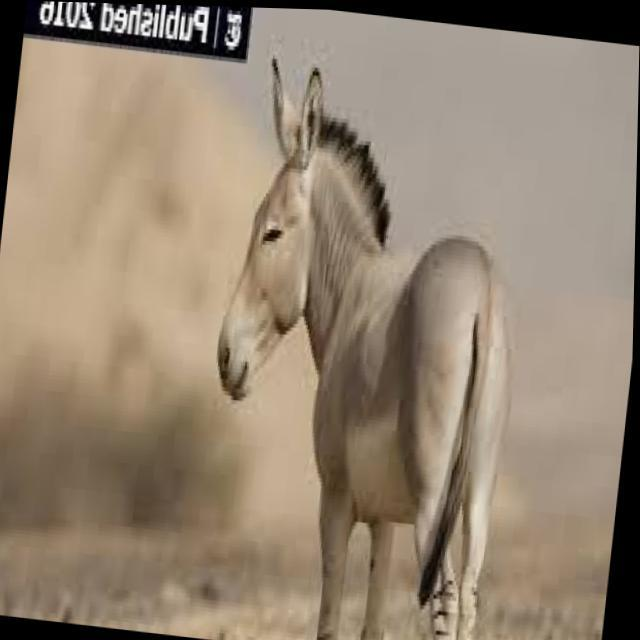Donkey: (178, 71, 585, 640), (175, 49, 400, 496)
